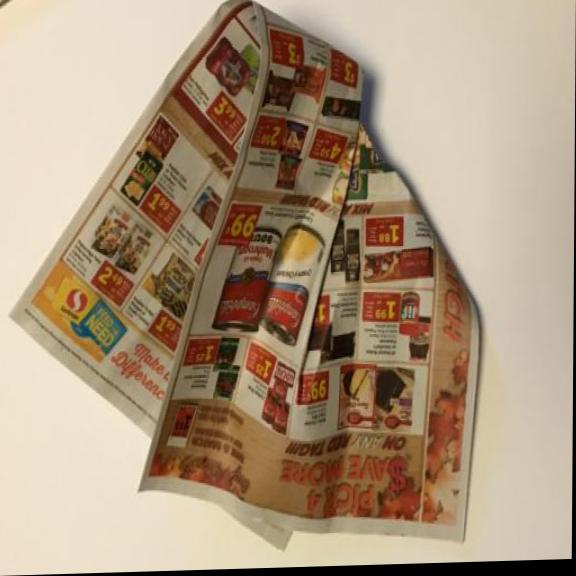Kertas: (7, 0, 493, 576)
